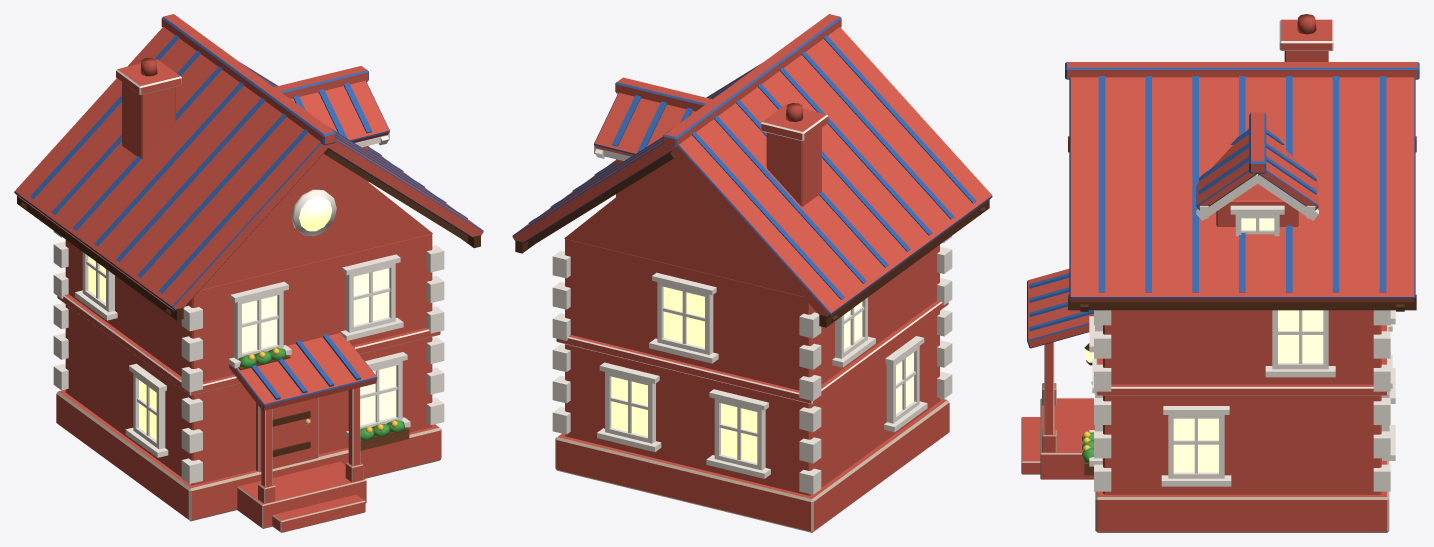
File: house_red_gable.glb
3 renders of one model, left to right at view 1: azimuth 30°, elevation 25°; view 2: azimuth 150°, elevation 25°; view 3: azimuth 270°, elevation 25°, orthographic. The views are drawn at different scales.
Visible parts, largest first — view 1: house_red_gable; view 2: house_red_gable; view 3: house_red_gable.
Boxes of the visible parts, x1,y1,x2,y2 form: house_red_gable: [14, 14, 483, 532]; house_red_gable: [512, 14, 992, 532]; house_red_gable: [1021, 14, 1419, 532].
Size of the model in its own units: 6.41 by 7.41 by 6.51.
